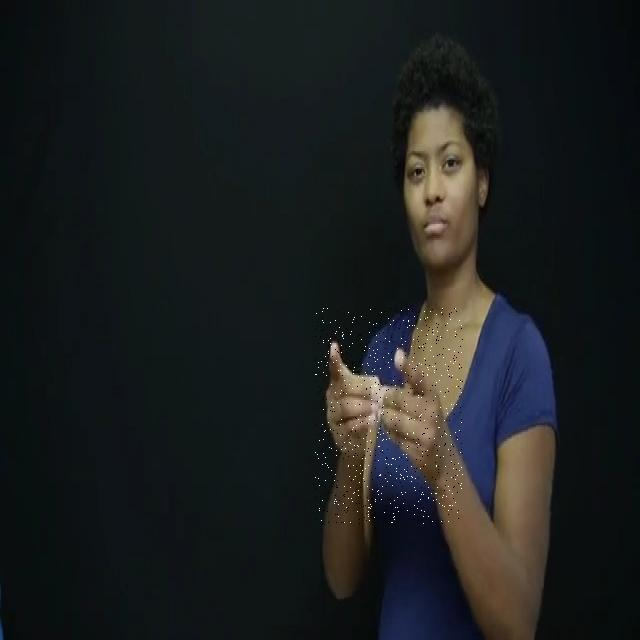sweet: (315, 308, 463, 524)
